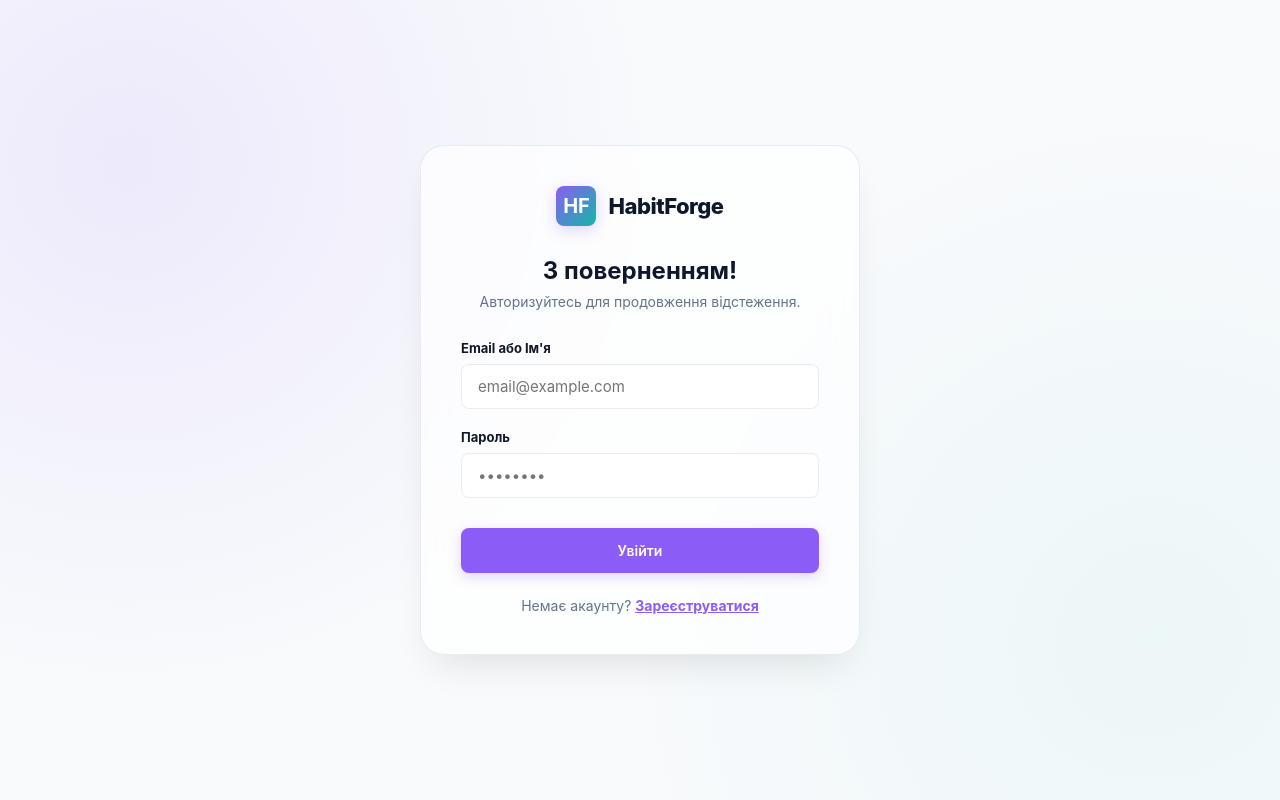
Scenario: AuthScreen › switches to register mode when clicking the register link
The image size is (1280, 800).
Click the text "Зареєструватися" at point(697, 606), box [635,597,759,614]
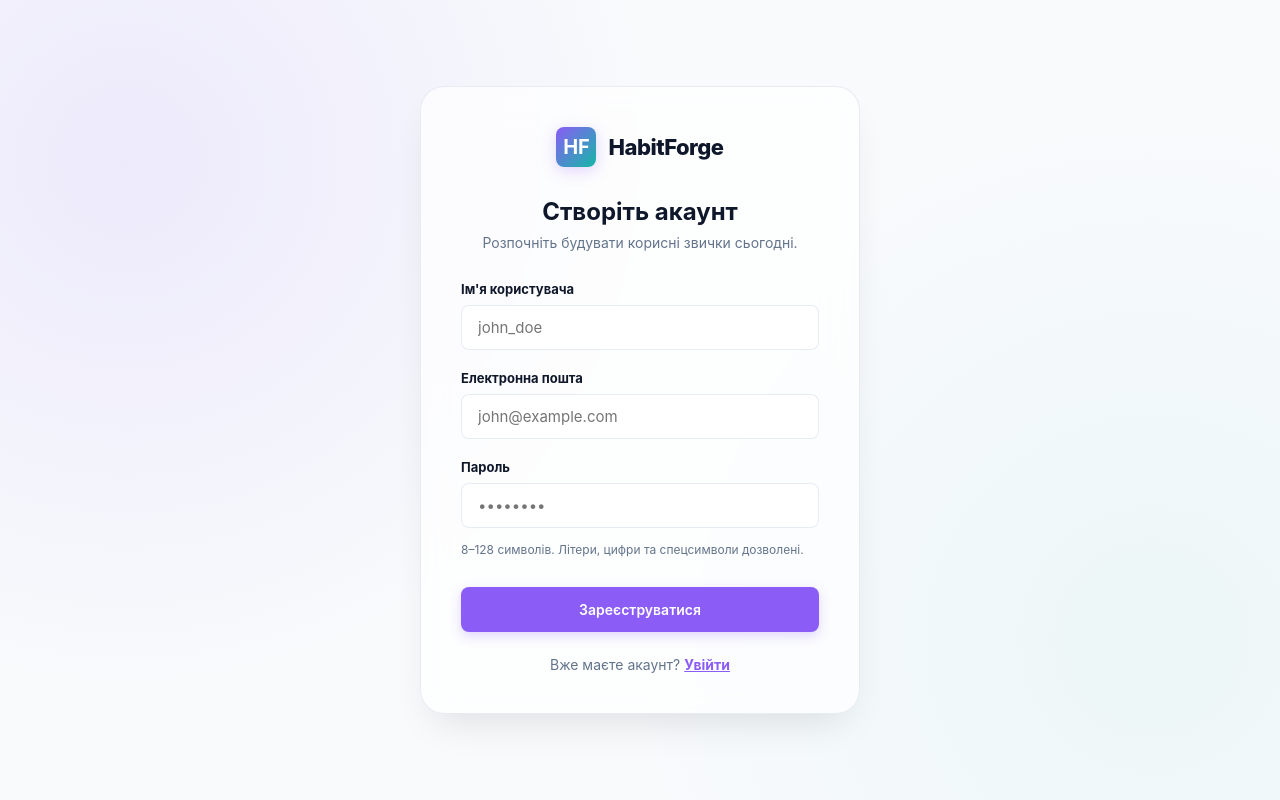
Result: the heading "Створіть акаунт" is shown at [542,197,738,226]
Result: the field with placeholder "john_doe" is shown at [461,305,819,350]
